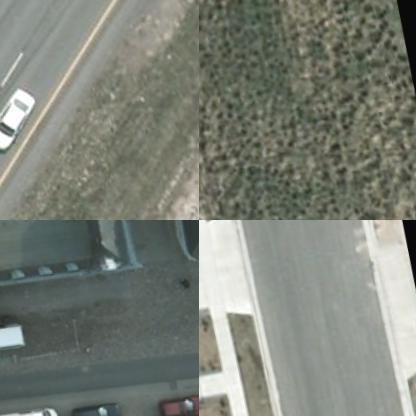car: (0, 75, 51, 159), (71, 393, 129, 415), (161, 384, 198, 415)
van: (0, 314, 29, 355), (0, 398, 67, 415)
